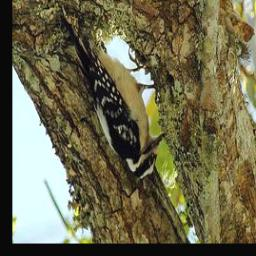Woodpecker: (59, 9, 167, 189)
